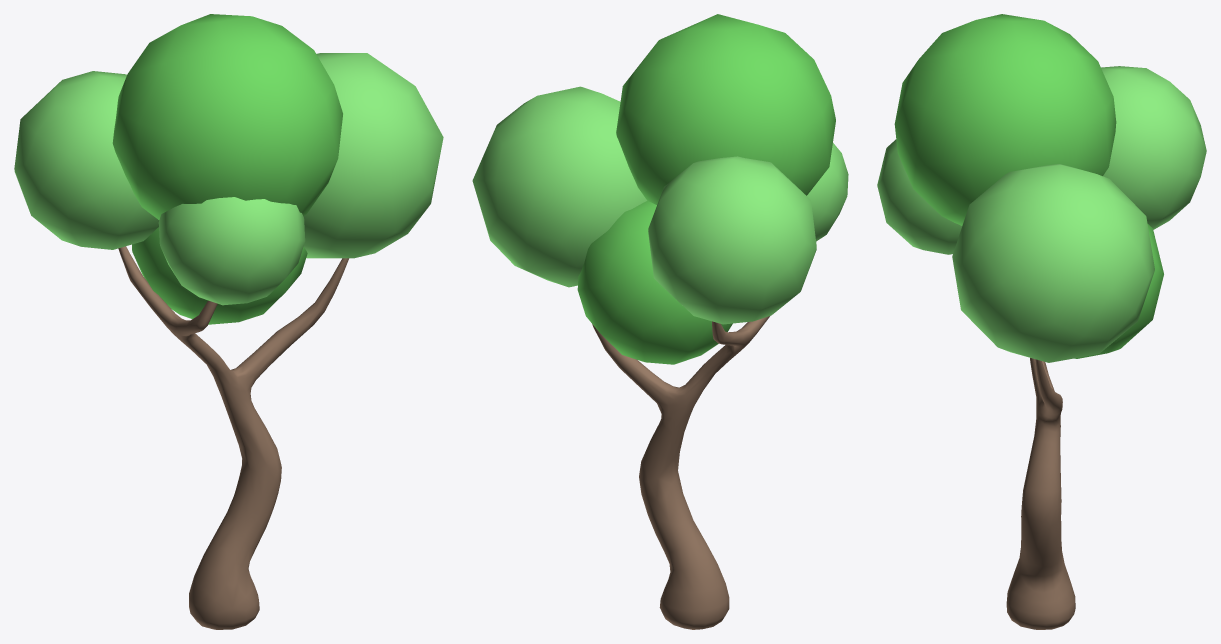
The model's file is Tree1.fbx.
3 views of the same model, side by side, from view 1: azimuth 30°, elevation 25°; view 2: azimuth 150°, elevation 25°; view 3: azimuth 270°, elevation 25° (orthographic). The views are drawn at different scales.
Parts seen in each view (by area): view 1: Icosphere.002, Icosphere.006, Plane.002; view 2: Icosphere.002, Icosphere.006, Plane.002; view 3: Icosphere.002, Icosphere.006, Plane.002.
Boxes of the visible parts, bbox=[...] form: Icosphere.002: bbox=[14, 53, 443, 305]; Icosphere.006: bbox=[112, 14, 342, 324]; Plane.002: bbox=[118, 246, 348, 629]; Icosphere.002: bbox=[472, 86, 848, 324]; Icosphere.006: bbox=[577, 14, 835, 364]; Plane.002: bbox=[592, 316, 769, 629]; Icosphere.002: bbox=[877, 66, 1206, 362]; Icosphere.006: bbox=[894, 14, 1163, 358]; Plane.002: bbox=[1006, 358, 1075, 629].
Bounding box in the file's own units: 242 × 389 × 196.
